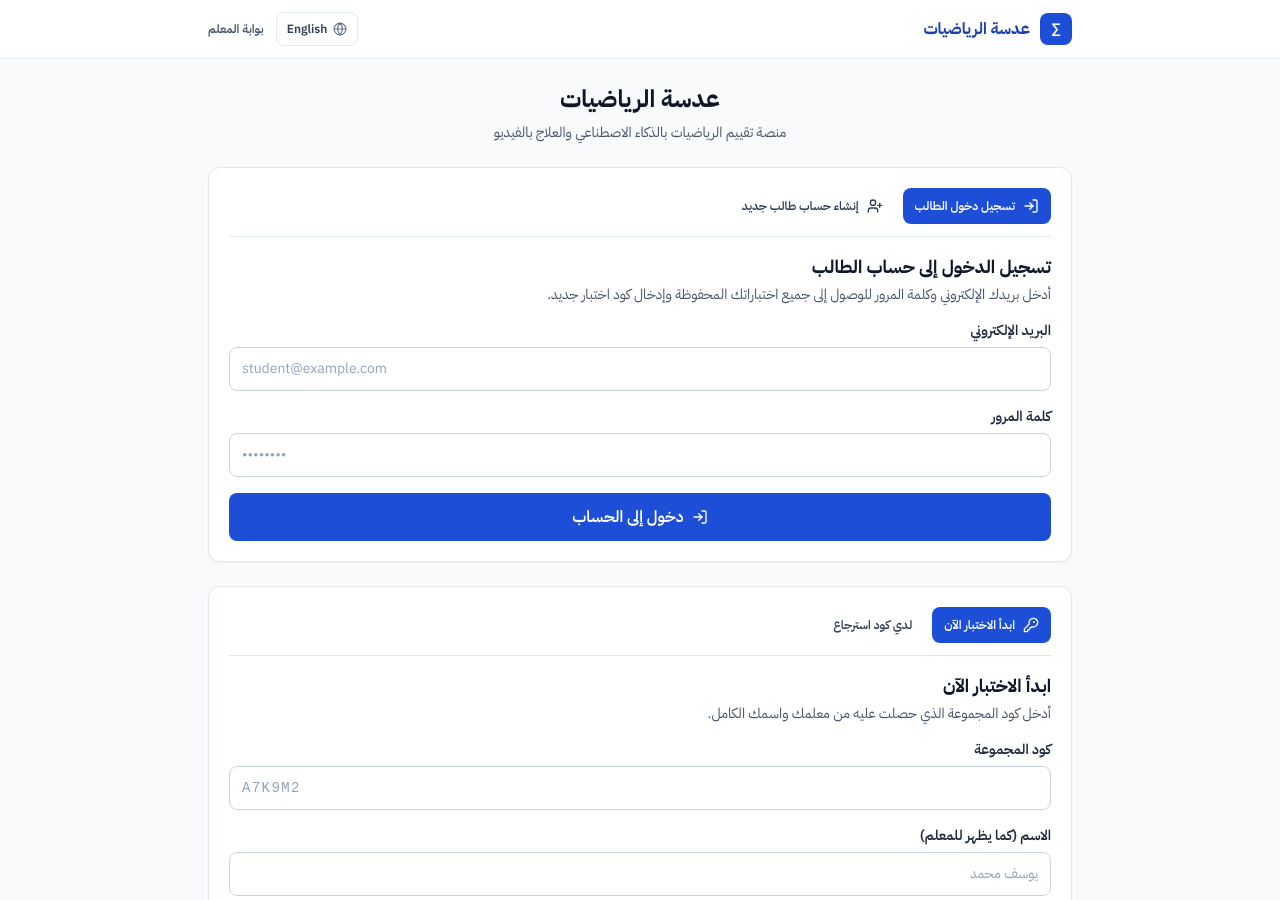
Scenario: Phase 8: Web Accessibility, RTL & Shell Landmarks › renders LandingPage join and resume tabs with accessible form labels
Expected: the button "ابدأ الاختبار الآن" is shown, [932,607,1051,643]
Expected: the field labelled "الاسم (كما يظهر للمعلم)" is shown, [229,852,1051,896]
Click the button "لدي كود استرجاع": coordinates (873, 625) [821,607,924,643]
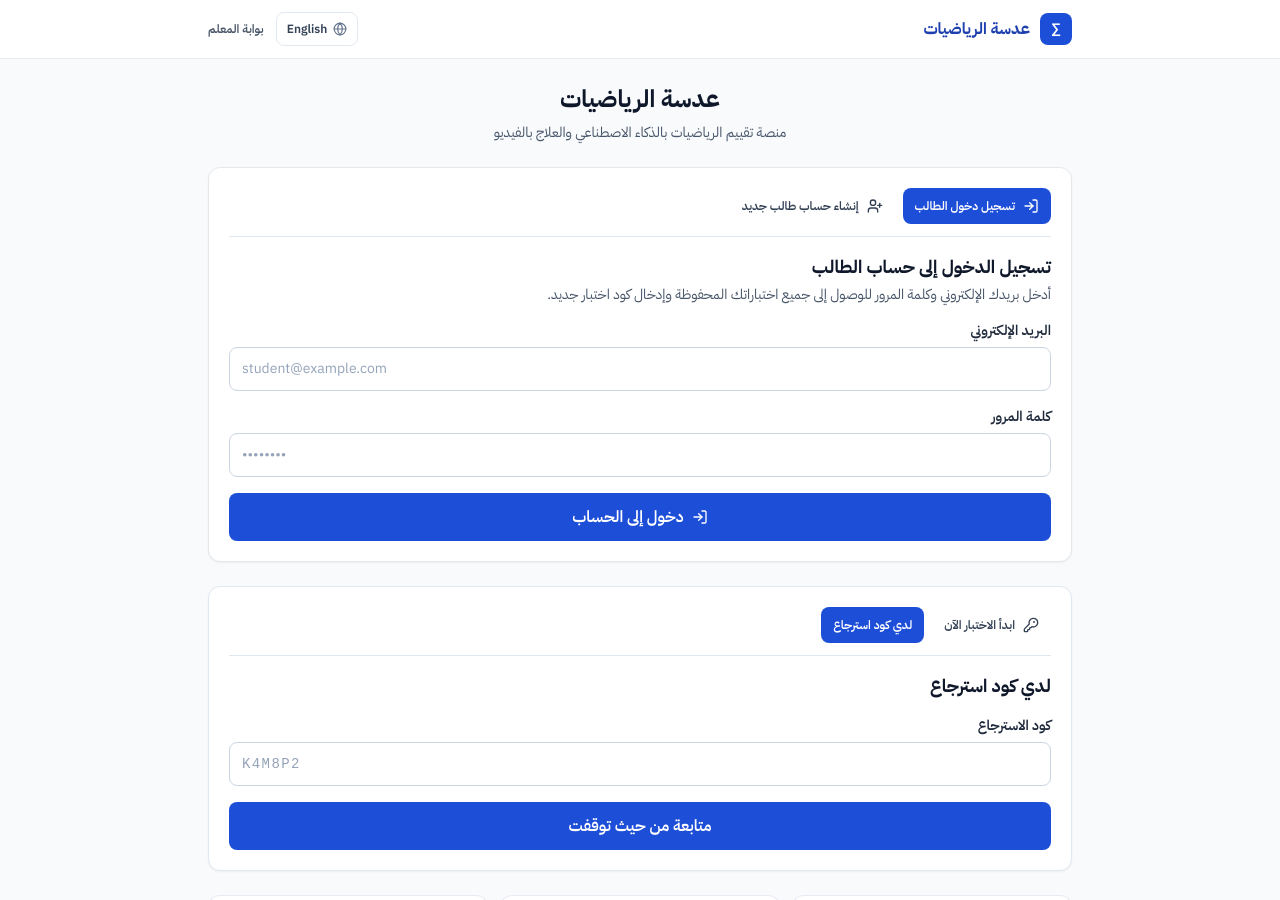
Expected: the button "متابعة من حيث توقفت" is shown, [229,802,1051,850]
